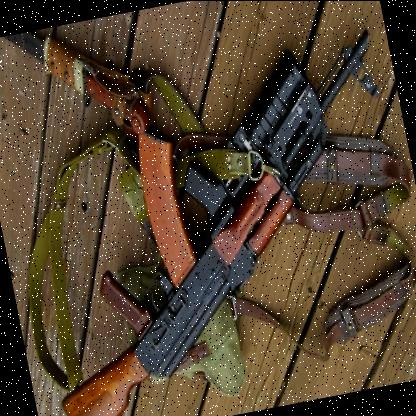rifle: (37, 9, 416, 416)
